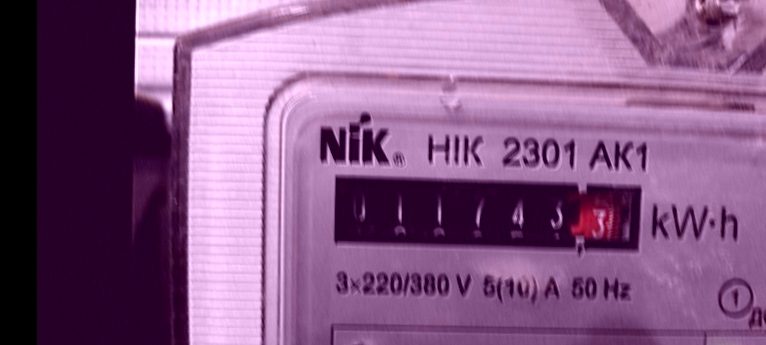0: (350, 189, 370, 225)
1: (433, 191, 449, 225), (396, 190, 407, 224)
3: (547, 196, 567, 232), (591, 209, 610, 242)
4: (510, 196, 528, 230)
7: (471, 194, 490, 228)
screen: (321, 165, 656, 265)
